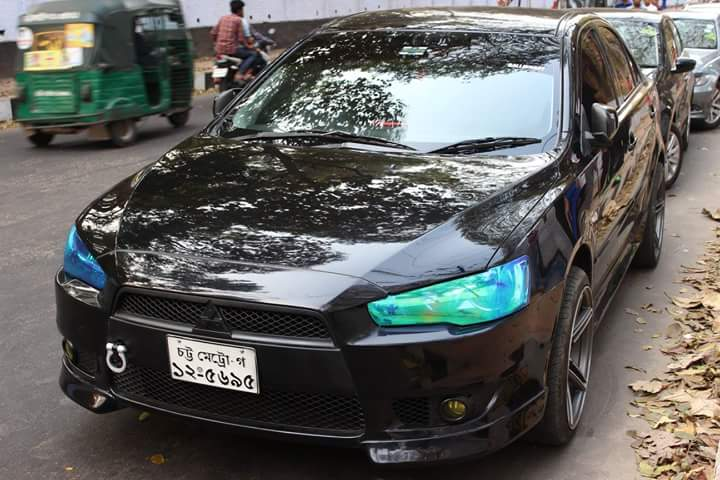registration_plate: (165, 333, 259, 395)
